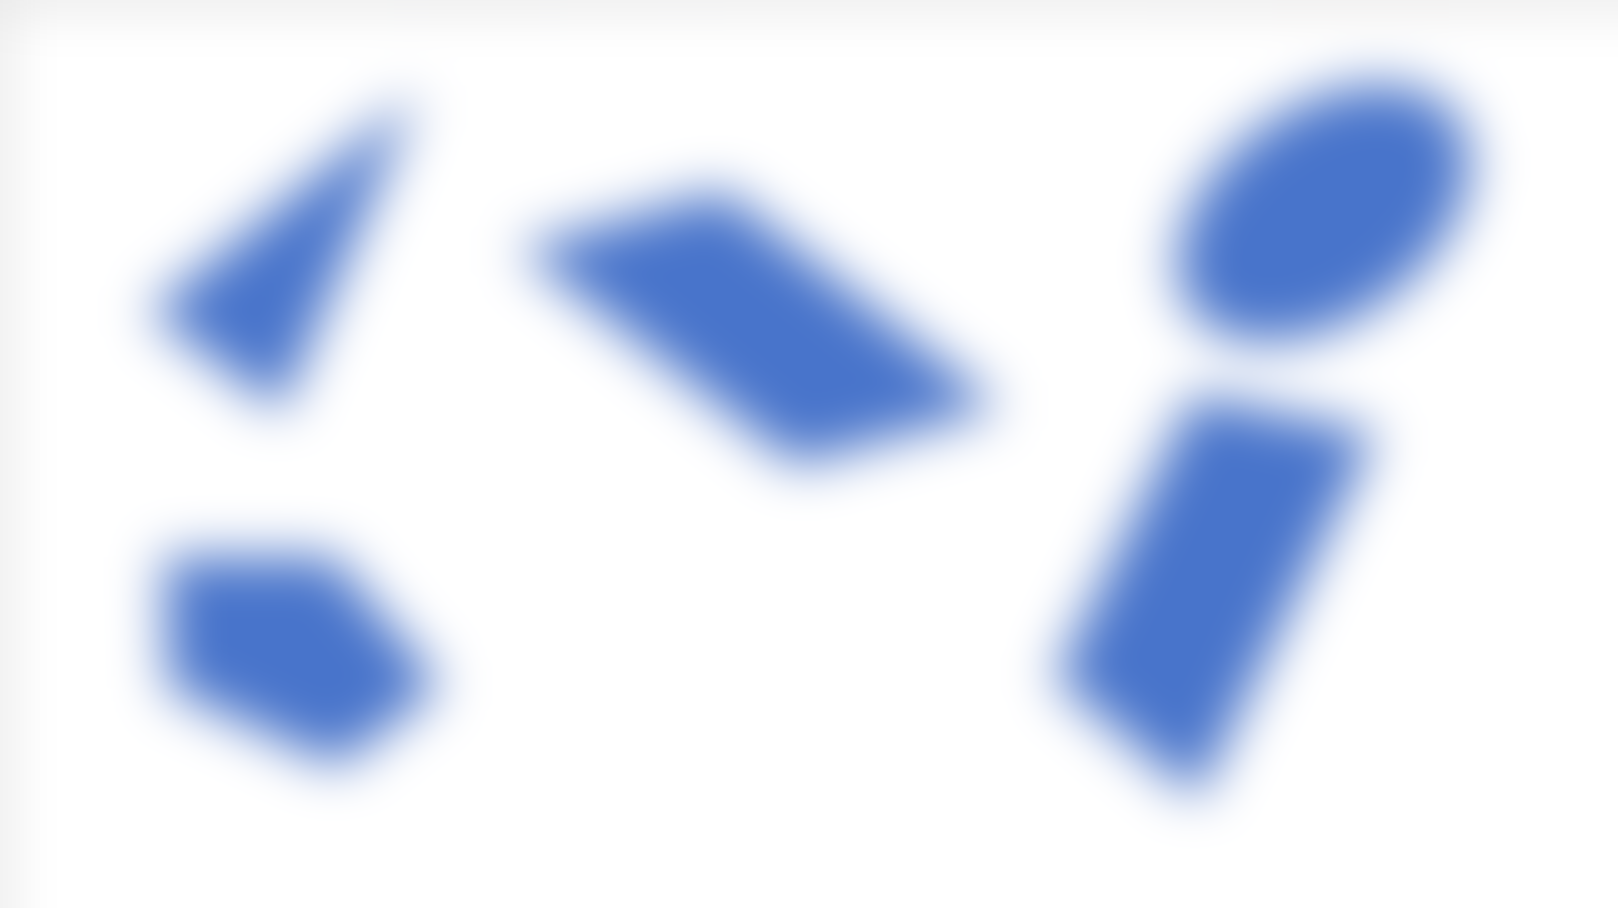circle: (1158, 67, 1474, 372)
parallelogram: (501, 174, 999, 519)
pentagon: (114, 542, 467, 777)
trapezium: (1043, 398, 1418, 814)
triangle: (111, 104, 432, 401)
